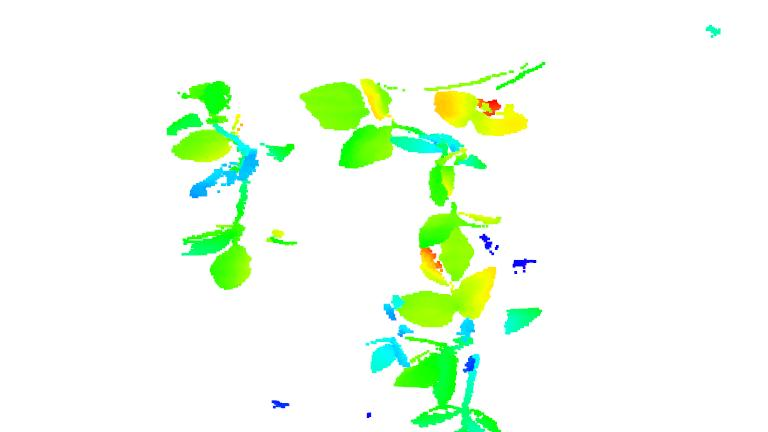mungbean: (298, 61, 542, 274), (365, 245, 541, 432), (158, 79, 295, 288)
